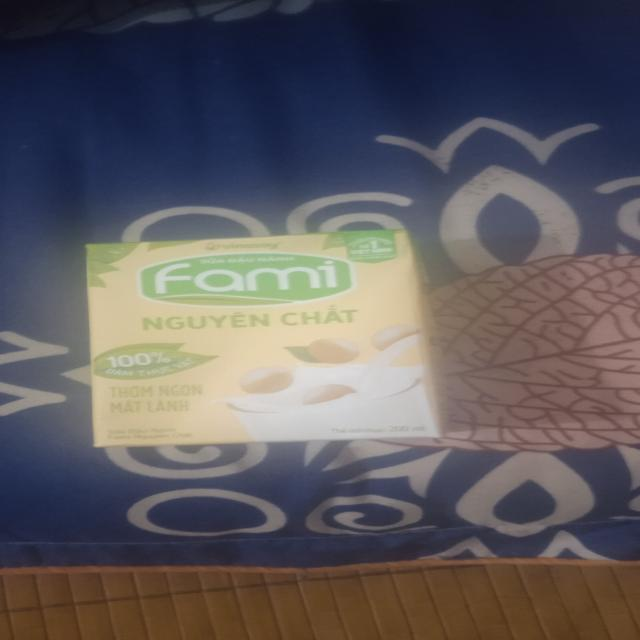Fami: (88, 230, 434, 446)
